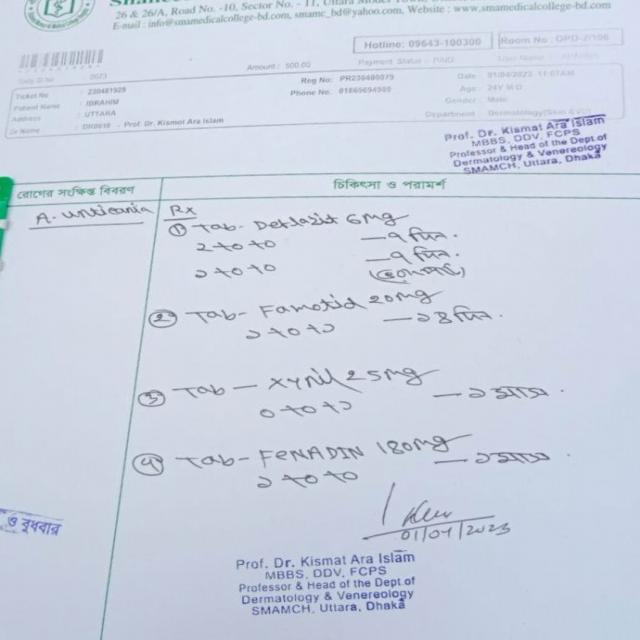Deflazit: (251, 213, 347, 236)
Famotid: (248, 294, 369, 321)
Fenadin: (255, 438, 371, 468)
Xyril: (252, 360, 349, 397)
